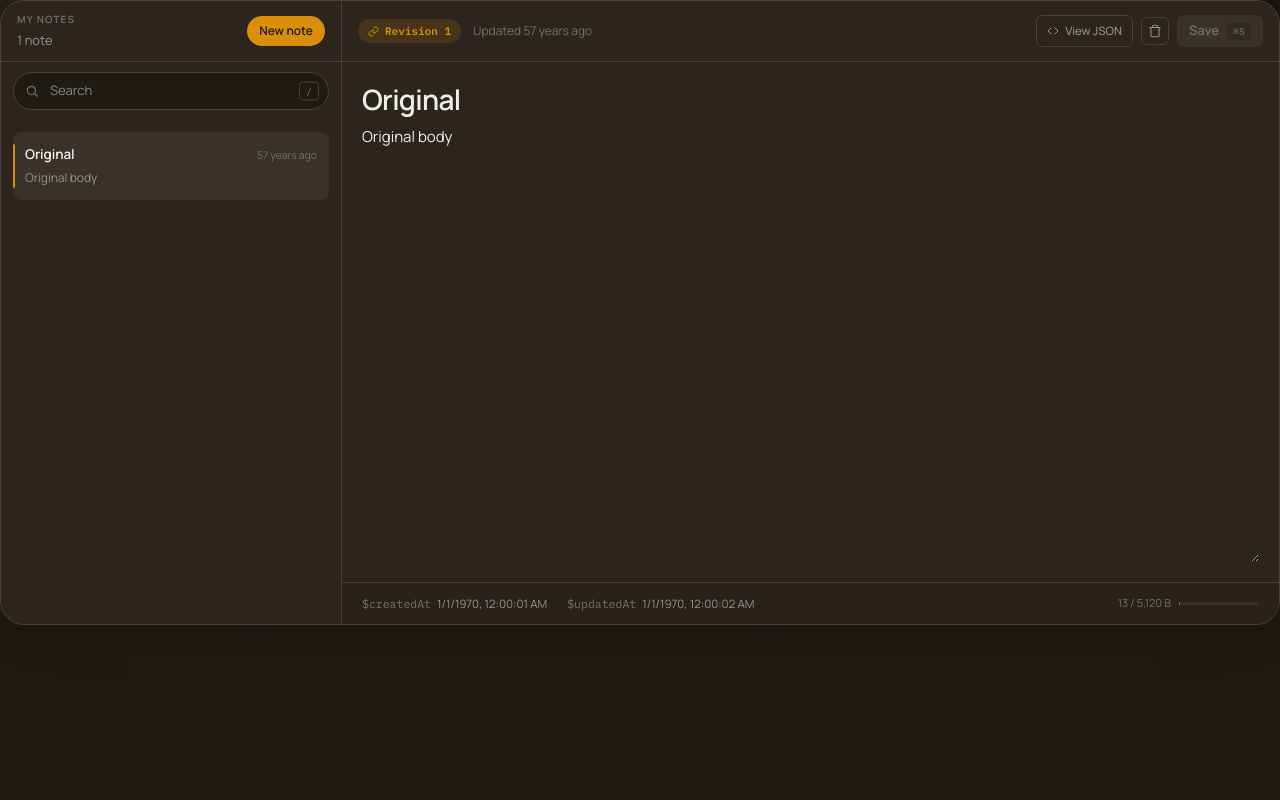
Test: NotesWorkspace › cache hydration & revalidation › warns the user instead of clobbering when the chain revision moves while editing
The image size is (1280, 800).
Replace the text in the text box named "body" with "User local edit" at (810, 341), box [362, 121, 1259, 562]
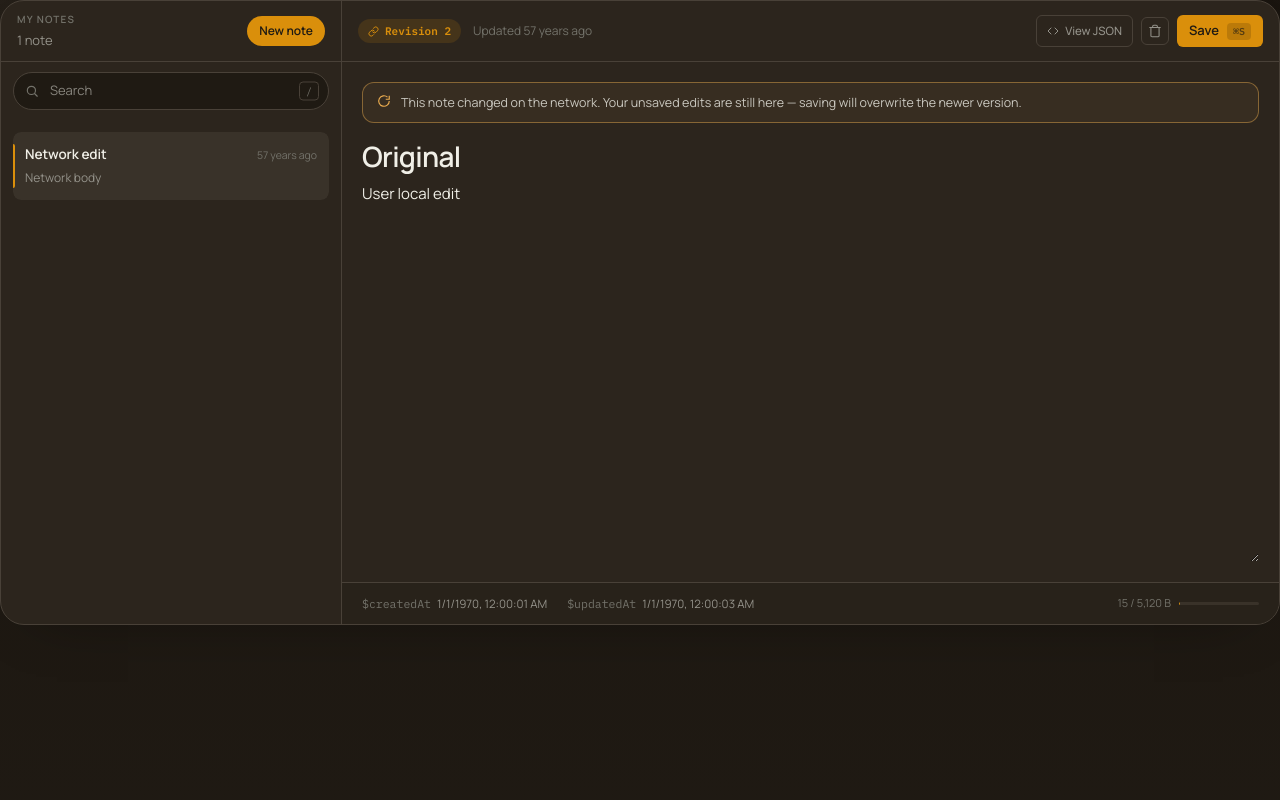
Expected: the text "This note changed on the network" is shown, [401, 94, 1022, 111]
